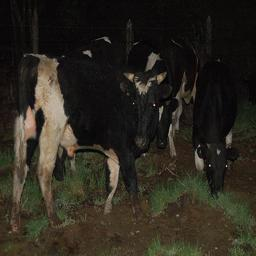cow: (43, 64, 256, 256), (184, 42, 256, 208), (208, 75, 256, 256)
